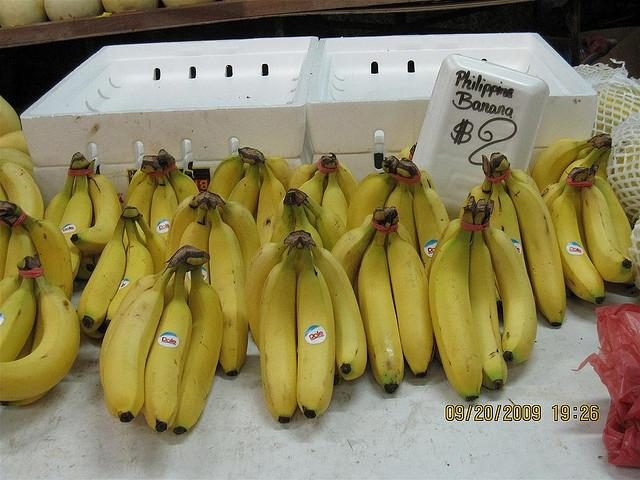banana: (428, 195, 484, 402), (103, 267, 175, 422), (0, 274, 80, 401), (504, 174, 567, 327), (482, 199, 537, 364), (170, 268, 224, 435), (98, 262, 168, 389), (358, 206, 404, 394), (384, 215, 436, 378), (142, 266, 192, 432), (468, 198, 508, 390), (1, 200, 74, 302), (208, 197, 248, 376), (549, 184, 605, 304), (580, 164, 634, 283), (76, 217, 126, 332), (558, 146, 605, 264), (105, 220, 154, 328), (70, 159, 122, 253), (532, 133, 610, 193), (331, 208, 386, 290), (411, 169, 450, 279), (346, 156, 398, 231), (217, 197, 261, 282), (58, 175, 93, 281), (1, 256, 36, 362), (490, 160, 524, 264), (166, 190, 210, 266), (178, 197, 212, 295), (592, 175, 632, 257), (384, 181, 420, 258), (256, 154, 286, 246), (123, 174, 158, 252), (303, 196, 349, 252), (1, 162, 44, 220), (157, 149, 200, 206), (458, 156, 492, 218), (321, 158, 349, 228), (150, 175, 178, 242), (4, 223, 38, 278), (228, 163, 262, 216), (137, 214, 167, 274), (206, 154, 245, 200), (44, 175, 74, 226), (332, 154, 358, 212), (292, 204, 324, 250), (270, 190, 297, 243), (298, 170, 327, 207), (264, 155, 292, 193), (510, 169, 542, 200), (0, 148, 34, 177), (0, 95, 21, 138), (288, 162, 319, 190), (0, 273, 23, 308), (126, 168, 147, 206), (0, 130, 30, 156), (90, 206, 102, 267), (1, 219, 12, 282), (15, 326, 34, 361)
